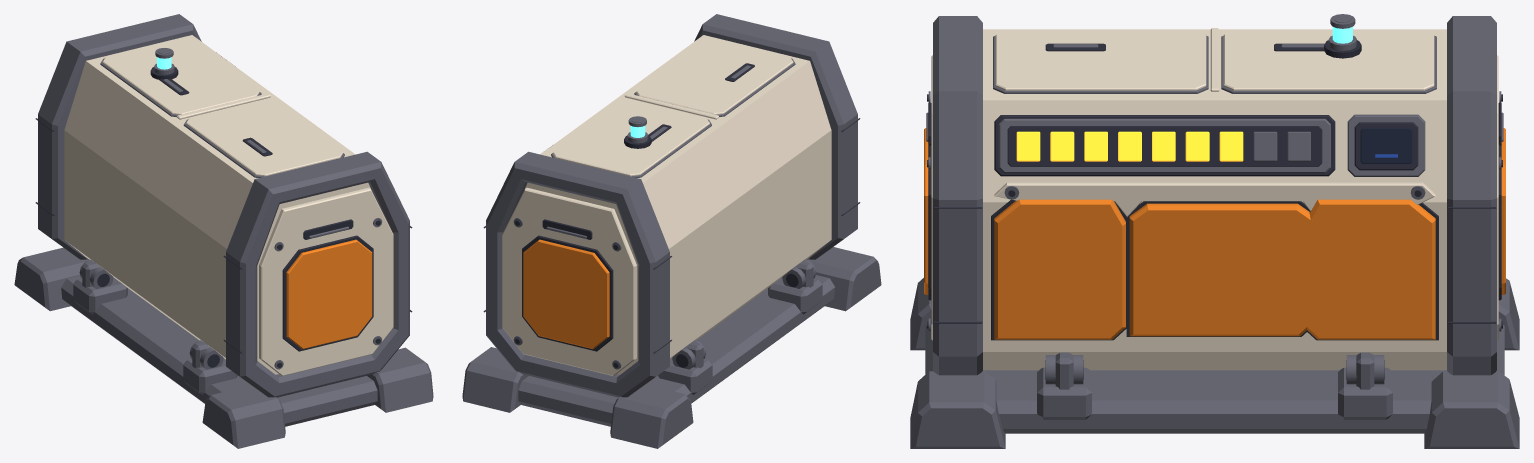
File: asset.glb
3 views of the same model, side by side, from view 1: azimuth 30°, elevation 25°; view 2: azimuth 150°, elevation 25°; view 3: azimuth 270°, elevation 25° (orthographic). The views are drawn at different scales.
Visible parts, largest first — view 1: Mesh_Ivory pressure cabinet, Mesh_Left wraparound armored frame, Mesh_Left recessed end plate, Mesh_Full width mounting rail, Mesh_Right wraparound armored frame, Mesh_Left orange end insert, Mesh_Roof ivory hatch -1, Mesh_Roof ivory hatch 1, Mesh_Chamfered mounting shoe 16, Mesh_Chamfered mounting shoe 17, Mesh_Chamfered mounting shoe 18, Mesh_Left end panel gasket (+3 smaller); view 2: Mesh_Ivory pressure cabinet, Mesh_Right wraparound armored frame, Mesh_Right recessed end plate, Mesh_Full width mounting rail, Mesh_Left wraparound armored frame, Mesh_Right orange end insert, Mesh_Roof ivory hatch -1, Mesh_Roof ivory hatch 1, Mesh_Chamfered mounting shoe 18, Mesh_Chamfered mounting shoe 19, Mesh_Chamfered mounting shoe 16, Mesh_Right end panel gasket (+3 smaller); view 3: Mesh_Ivory pressure cabinet, Mesh_Orange battery access cover 1, Mesh_Full width mounting rail, Mesh_Orange battery access cover 0, Mesh_Left wraparound armored frame, Mesh_Right wraparound armored frame, Mesh_Orange battery access cover 2, Mesh_Roof ivory hatch -1, Mesh_Roof ivory hatch 1, Mesh_Ivory stepped service bridge, Mesh_Gauge black recess, Mesh_Chamfered mounting shoe 19 (+33 smaller).
Boxes of the visible parts, x1=… form: Mesh_Ivory pressure cabinet: x1=64, y1=35, x2=371, y2=374; Mesh_Left wraparound armored frame: x1=226, y1=151, x2=409, y2=397; Mesh_Left recessed end plate: x1=259, y1=187, x2=393, y2=376; Mesh_Full width mounting rail: x1=61, y1=275, x2=377, y2=426; Mesh_Right wraparound armored frame: x1=38, y1=14, x2=201, y2=259; Mesh_Left orange end insert: x1=286, y1=239, x2=372, y2=349; Mesh_Roof ivory hatch -1: x1=186, y1=100, x2=342, y2=176; Mesh_Roof ivory hatch 1: x1=102, y1=39, x2=259, y2=114; Mesh_Chamfered mounting shoe 16: x1=202, y1=385, x2=285, y2=448; Mesh_Chamfered mounting shoe 17: x1=367, y1=347, x2=433, y2=412; Mesh_Chamfered mounting shoe 18: x1=14, y1=247, x2=88, y2=311; Mesh_Left end panel gasket: x1=282, y1=235, x2=373, y2=351; Mesh_Ivory pressure cabinet: x1=524, y1=35, x2=831, y2=374; Mesh_Right wraparound armored frame: x1=486, y1=151, x2=669, y2=397; Mesh_Right recessed end plate: x1=502, y1=187, x2=636, y2=376; Mesh_Full width mounting rail: x1=518, y1=275, x2=835, y2=426; Mesh_Left wraparound armored frame: x1=694, y1=14, x2=857, y2=259; Mesh_Right orange end insert: x1=523, y1=239, x2=609, y2=349; Mesh_Roof ivory hatch -1: x1=636, y1=39, x2=793, y2=114; Mesh_Roof ivory hatch 1: x1=553, y1=100, x2=709, y2=176; Mesh_Chamfered mounting shoe 18: x1=610, y1=384, x2=693, y2=448; Mesh_Chamfered mounting shoe 19: x1=462, y1=347, x2=528, y2=412; Mesh_Chamfered mounting shoe 16: x1=807, y1=247, x2=881, y2=311; Mesh_Right end panel gasket: x1=522, y1=235, x2=613, y2=351; Mesh_Ivory pressure cabinet: x1=983, y1=29, x2=1446, y2=370; Mesh_Orange battery access cover 1: x1=1129, y1=203, x2=1310, y2=336; Mesh_Full width mounting rail: x1=925, y1=321, x2=1504, y2=433; Mesh_Orange battery access cover 0: x1=994, y1=199, x2=1125, y2=339; Mesh_Left wraparound armored frame: x1=933, y1=16, x2=982, y2=375; Mesh_Right wraparound armored frame: x1=1447, y1=16, x2=1496, y2=375; Mesh_Orange battery access cover 2: x1=1307, y1=199, x2=1435, y2=339; Mesh_Roof ivory hatch -1: x1=995, y1=30, x2=1206, y2=90; Mesh_Roof ivory hatch 1: x1=1223, y1=30, x2=1434, y2=90; Mesh_Ivory stepped service bridge: x1=994, y1=182, x2=1435, y2=216; Mesh_Gauge black recess: x1=1007, y1=126, x2=1322, y2=166; Mesh_Chamfered mounting shoe 19: x1=1424, y1=371, x2=1519, y2=448.
Size of the model in its own units: 1.26 by 1.57 by 2.43.
